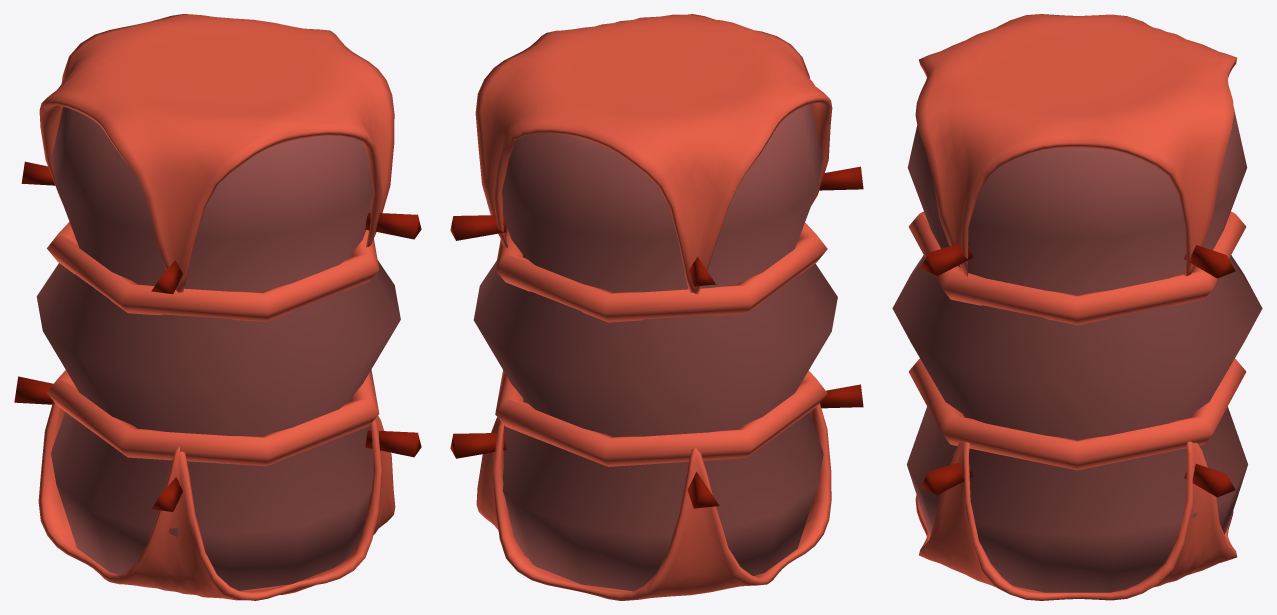
The model's file is barrelvampiregame.fbx.
3 renders of one model, left to right at view 1: azimuth 30°, elevation 25°; view 2: azimuth 150°, elevation 25°; view 3: azimuth 270°, elevation 25°, orthographic.
Parts seen in each view (by area): view 1: Plane.003; view 2: Plane.003; view 3: Plane.003.
Boxes of the visible parts, x1=… form: Plane.003: x1=14, y1=14, x2=421, y2=600; Plane.003: x1=450, y1=14, x2=863, y2=600; Plane.003: x1=892, y1=14, x2=1262, y2=600.
Bounding box in the file's own units: 242 × 353 × 248.
